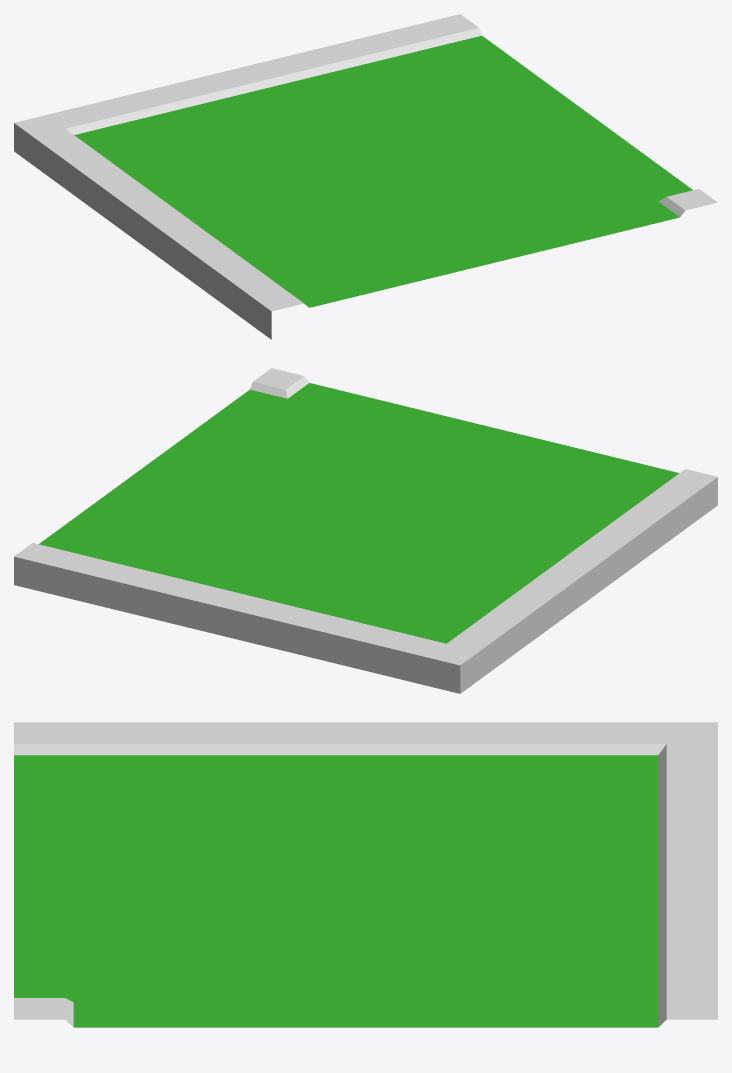
The model's file is GrassBed_1_B_4.fbx.
3 views of the same model, one above another, from view 1: azimuth 30°, elevation 25°; view 2: azimuth 150°, elevation 25°; view 3: azimuth 270°, elevation 25° (orthographic). The views are drawn at different scales.
Parts seen in each view (by area): view 1: GrassBed_1_B_4; view 2: GrassBed_1_B_4; view 3: GrassBed_1_B_4.
Part boxes in pixels (box(x1,y1,x2,y2)): GrassBed_1_B_4: box(14, 14, 717, 339); GrassBed_1_B_4: box(14, 368, 717, 693); GrassBed_1_B_4: box(14, 722, 717, 1027).
Bounding box in the file's own units: 120 × 7.32 × 120.
